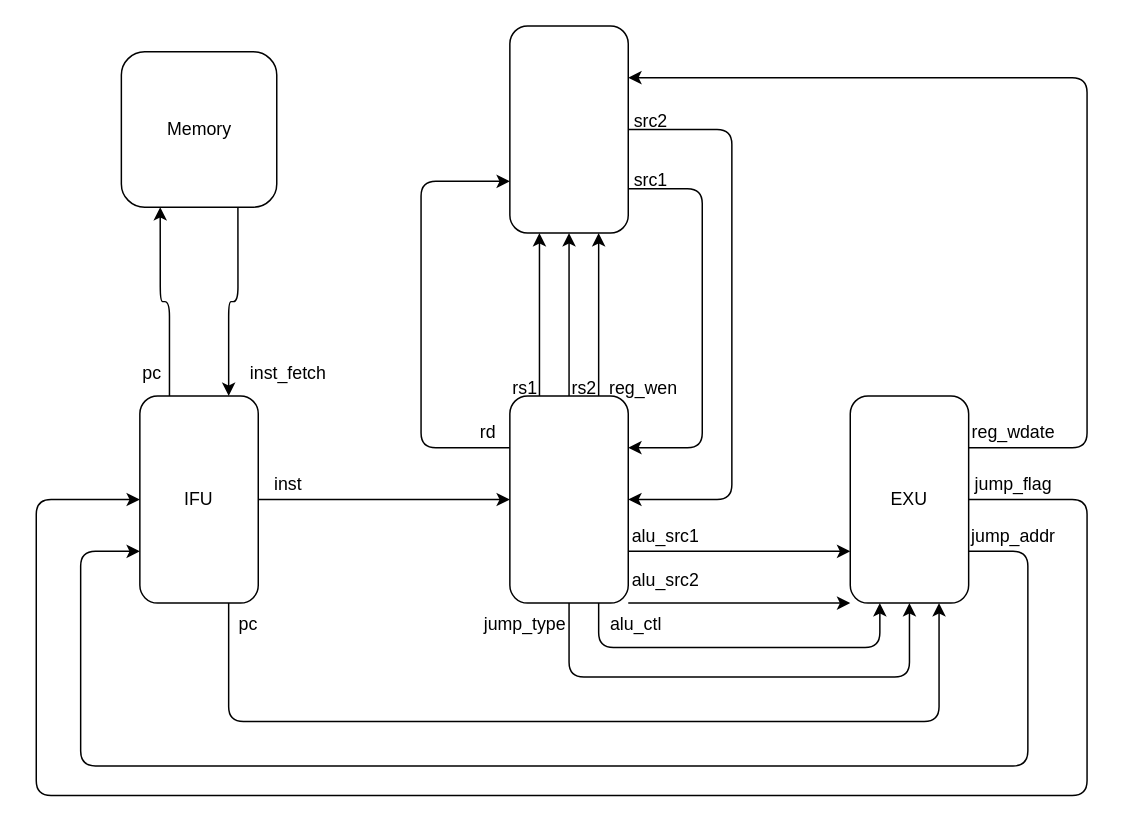
Some shapes in this 1125 by 833 pixel diagram are drawn without their labels. Here are the shapes that lost their labels. From the top down, the centre of each, then its label:
At [568,128]: "RegisterFIle".
At [568,498]: "IDU".
